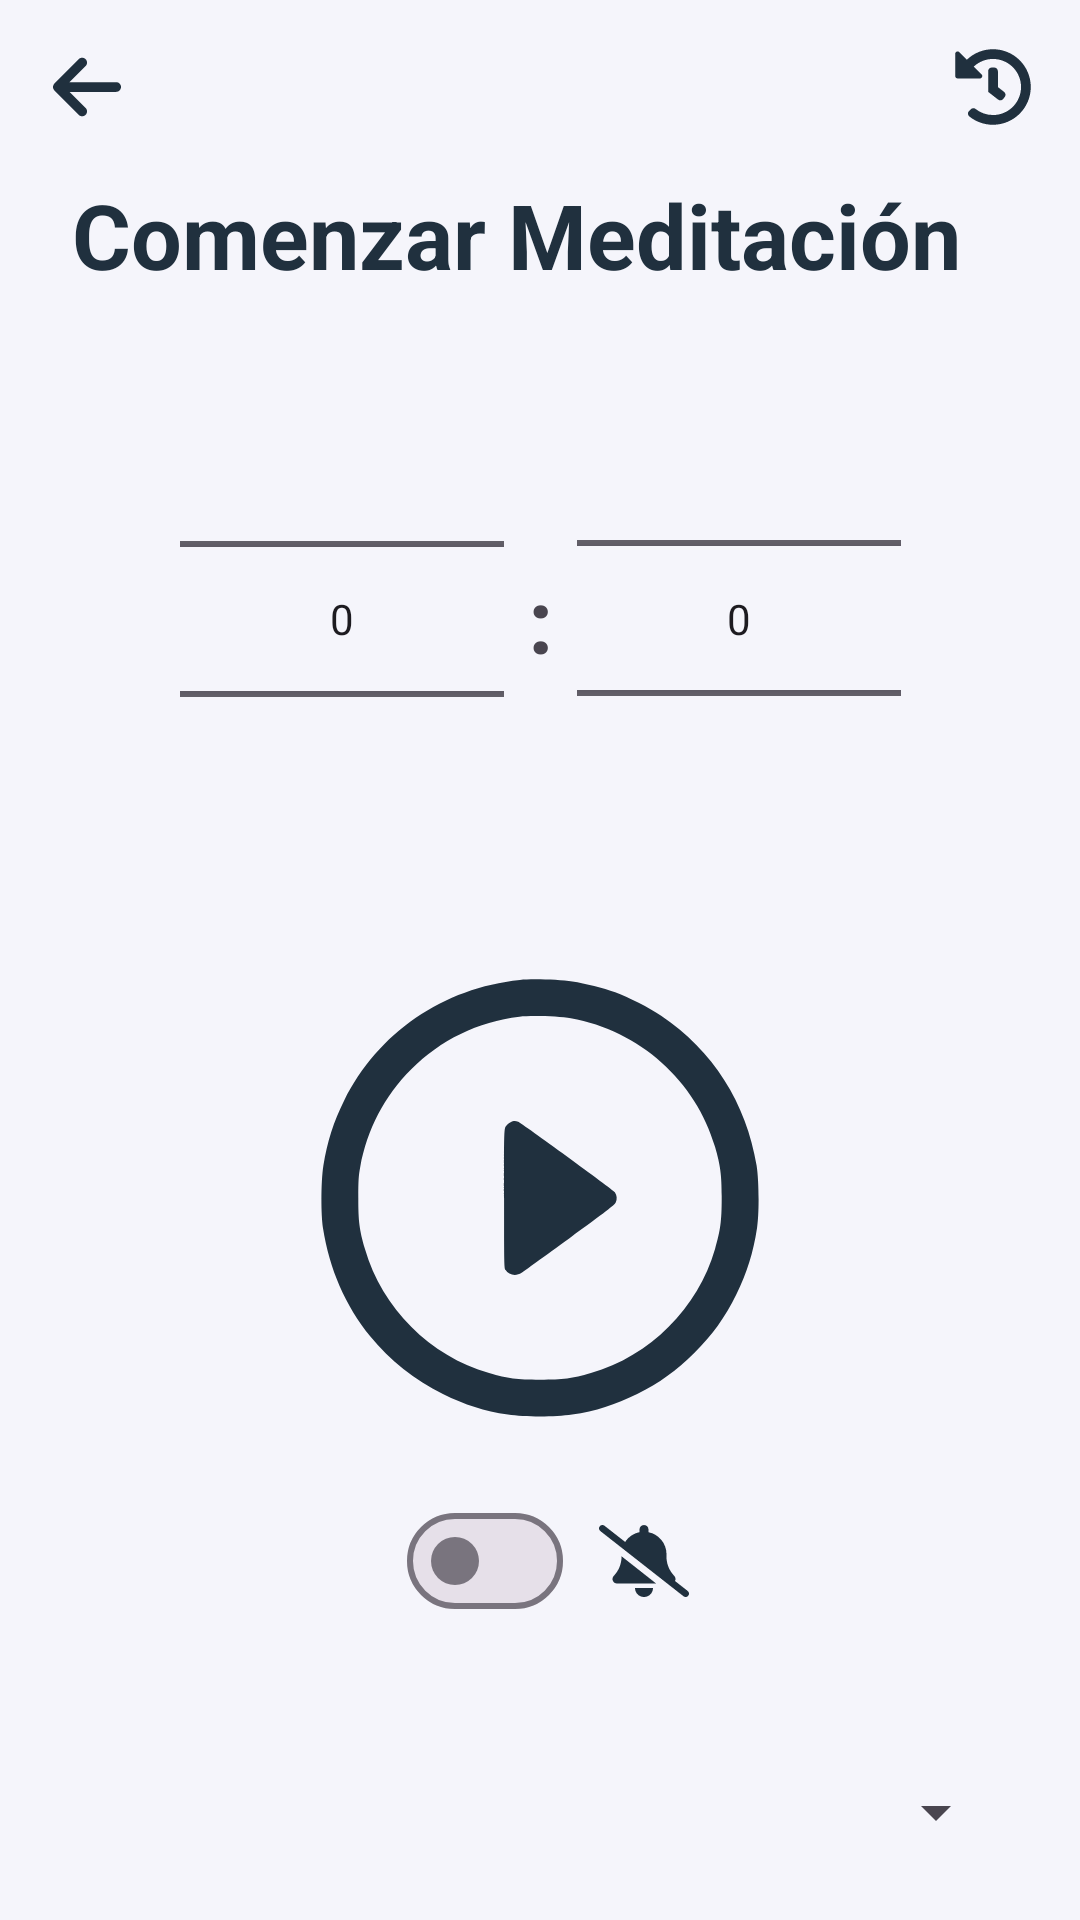

Where to tap for icons on this 1080×1920 app screen, as point (x, y):
go back arrow: point (87, 87)
historial: point (993, 87)
no alarm: point (644, 1561)
